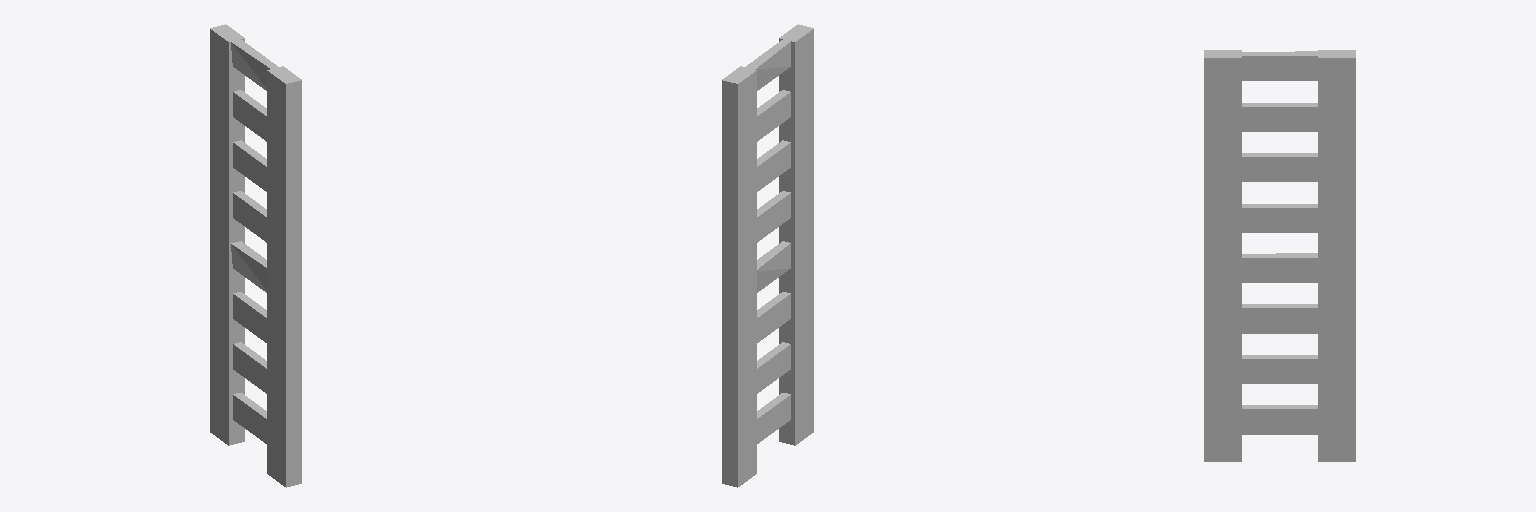
The model's file is ladder.obj.
3 renders of one model, left to right at view 1: azimuth 30°, elevation 25°; view 2: azimuth 150°, elevation 25°; view 3: azimuth 270°, elevation 25°, orthographic.
Visible parts, largest first — view 1: Cube; view 2: Cube; view 3: Cube.
Part boxes in pixels (bbox=[...]): Cube: bbox=[210, 24, 301, 487]; Cube: bbox=[722, 24, 813, 487]; Cube: bbox=[1204, 50, 1355, 461].
Bounding box in the file's own units: 0.25 × 5.84 × 2.